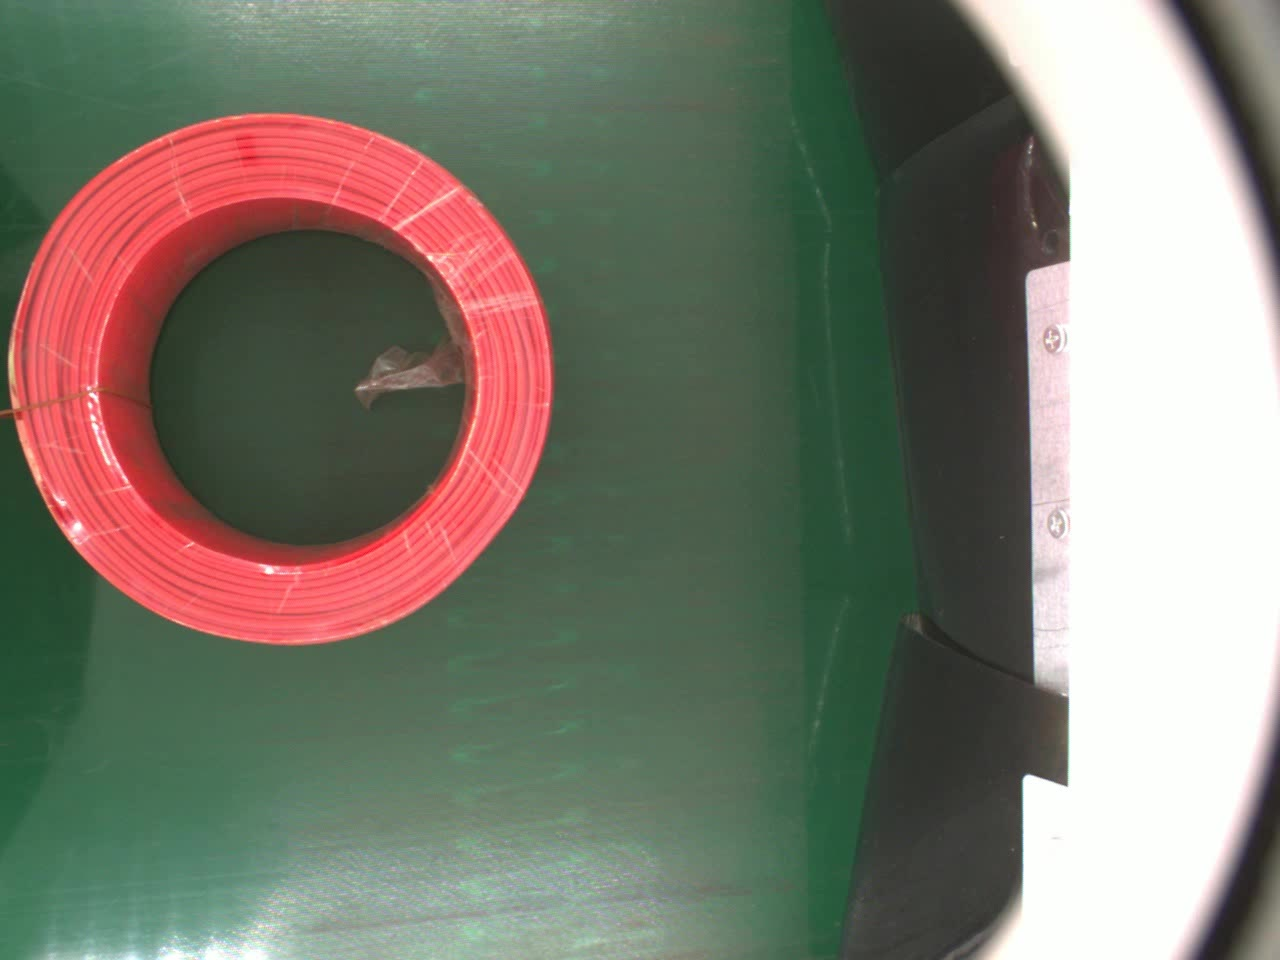red: (7, 110, 555, 652)
